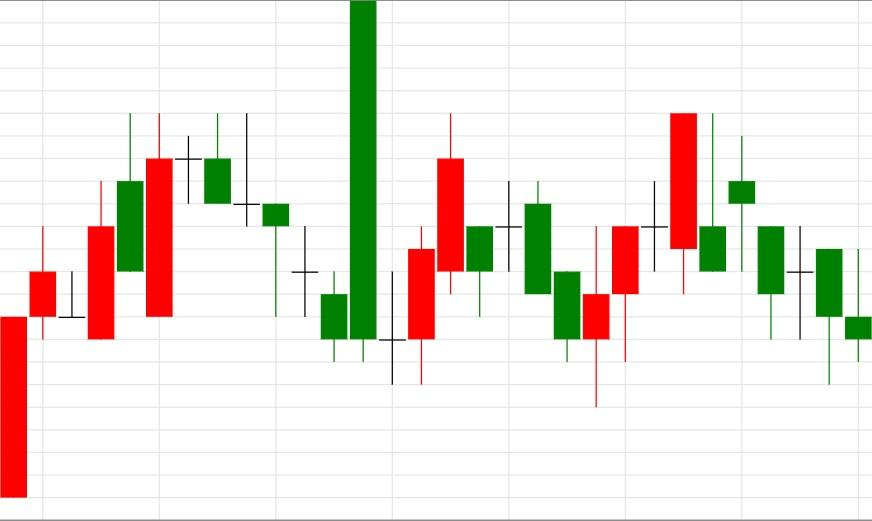evening_star_fall: (0, 112, 232, 498)
morning_star_rise: (174, 0, 436, 386)
